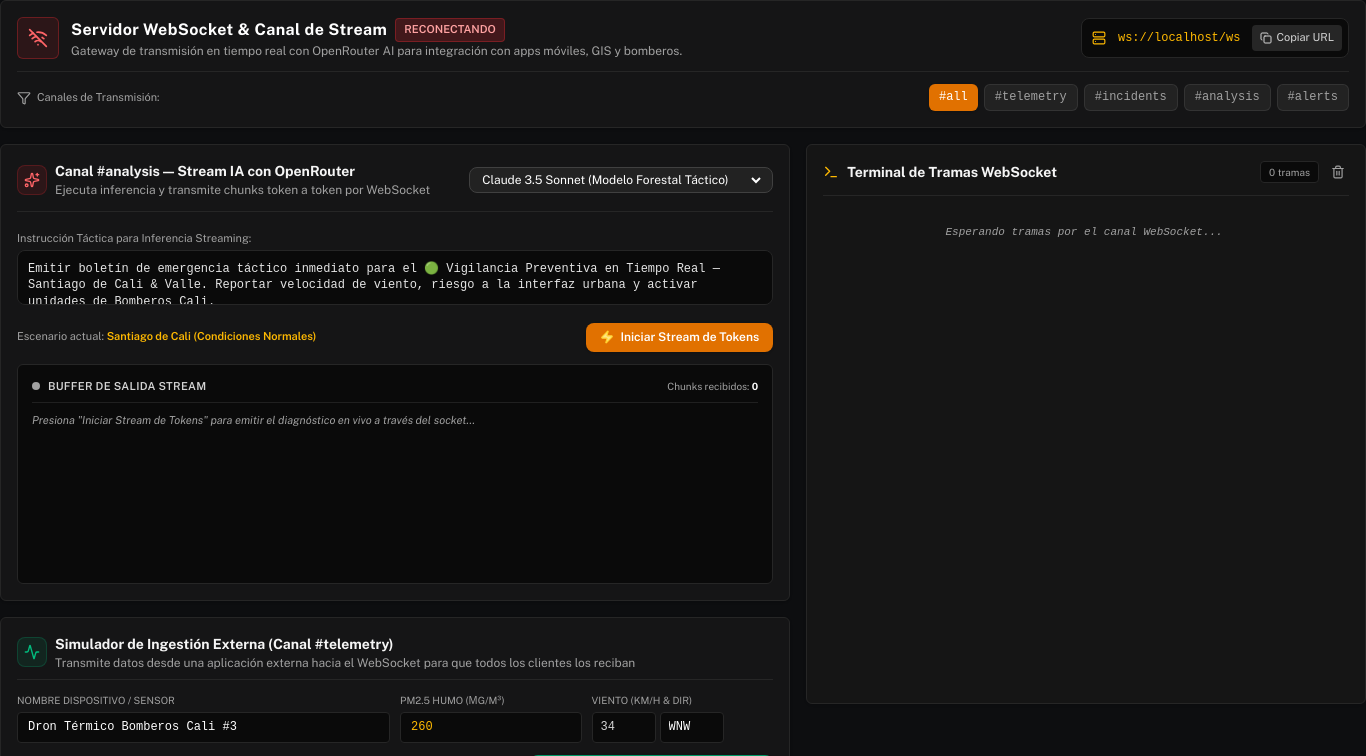
WebSocketStreamStudio › si el gateway no acepta el frame lo dice explícitamente (antes el click era mudo)
Click the button "Iniciar Stream de Tokens" at x=680, y=337, box x1=586 y1=323 x2=773 y2=352
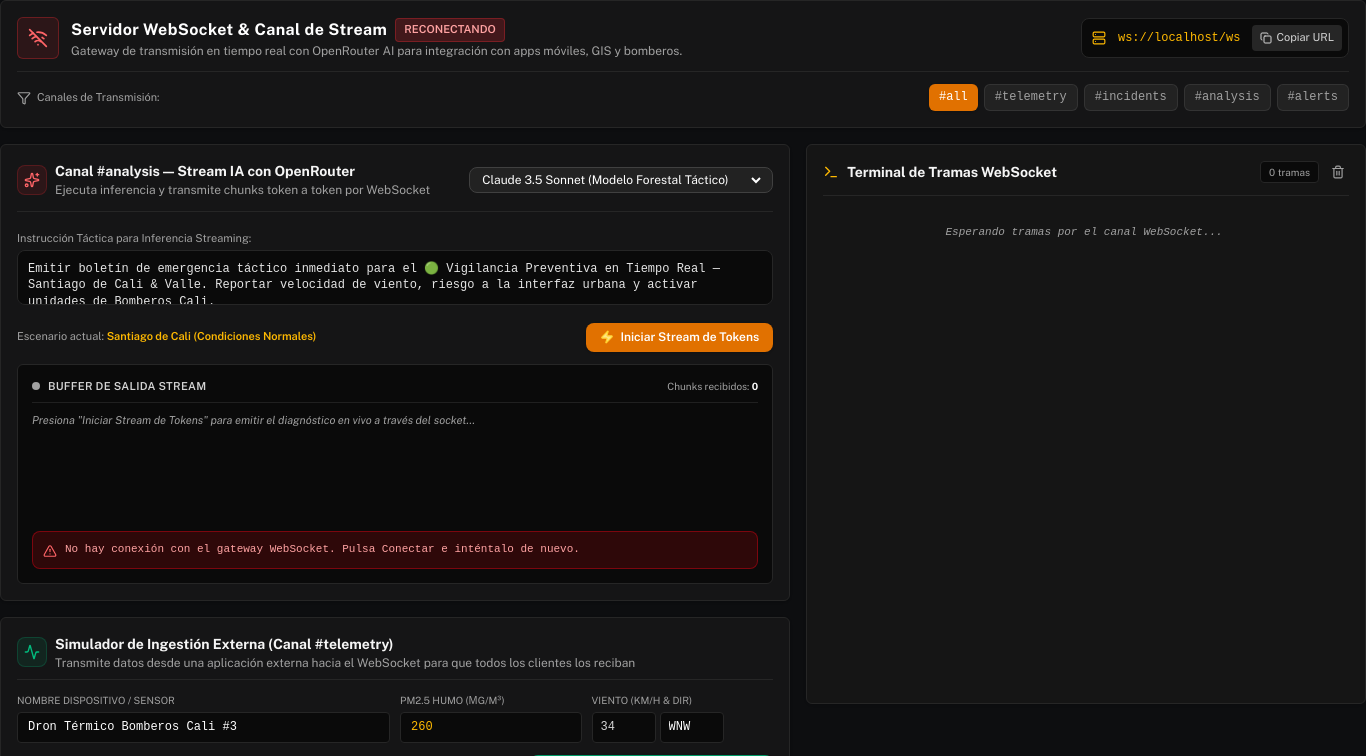
expect the text "Iniciar Stream de Tokens" is shown: met, box x1=620 y1=329 x2=759 y2=346
expect the message shows "No hay conexión con el gateway WebSocket": met, box x1=65 y1=543 x2=580 y2=555
